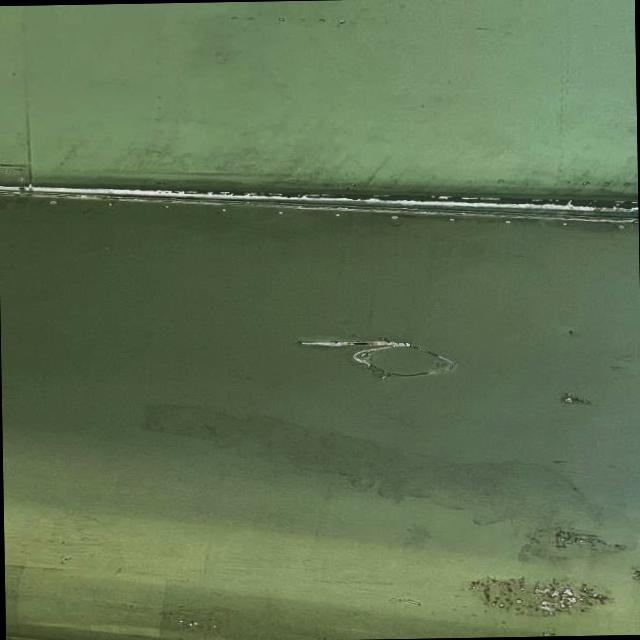crack: (292, 336, 410, 356)
